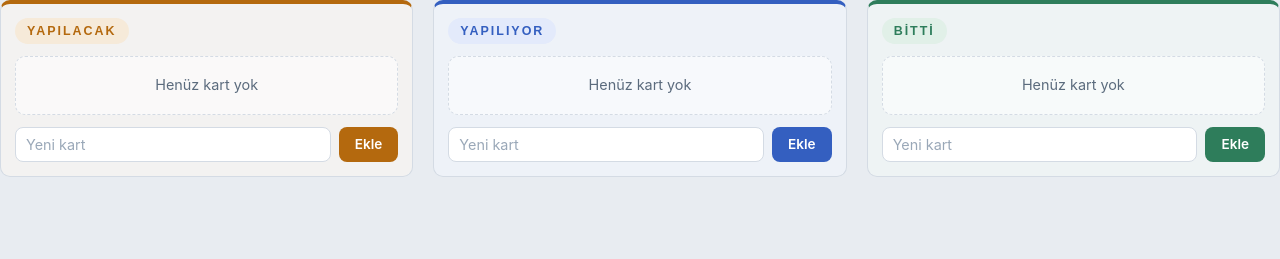
Scenario: kaydetme hatasında uyarı mesajı gösterilir
In the field named "Yapılacak kolonuna yeni kart": [173, 144] box [15,127,331,162], type "Kaydedilemeyen kart"
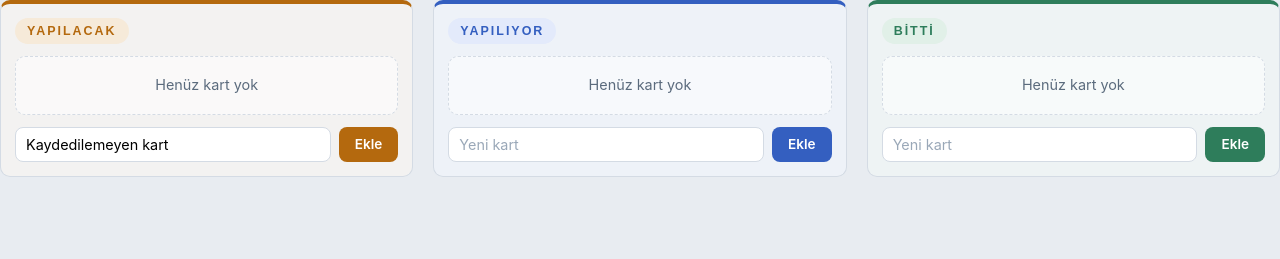
Click the button "Ekle" below "Yapılacak": [369, 144] box [339,127,398,162]
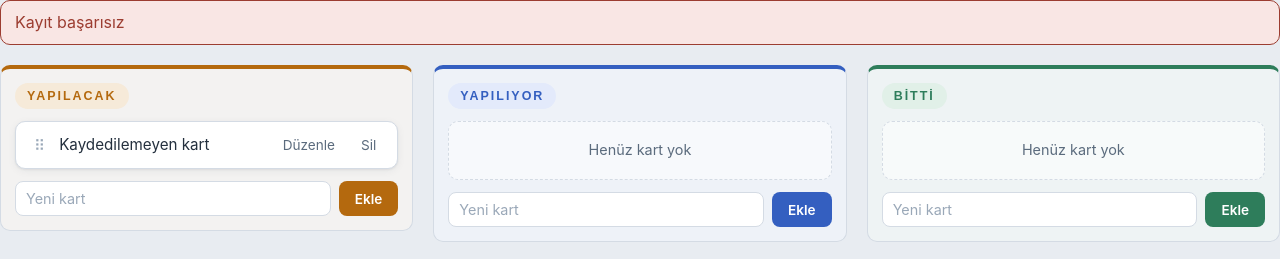
Expected: the message reads "Kayıt başarısız", [15,12,125,32]
